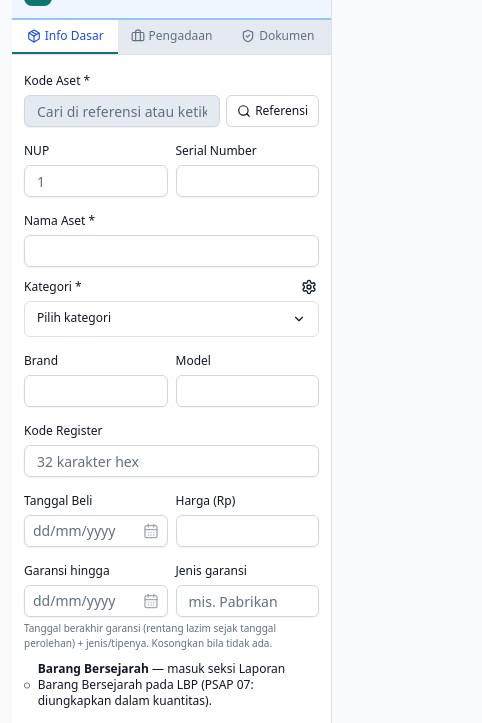
Test case: pemicu pencarian kode dan pegawai tetap membuka pilihan
The width and height of the screenshot is (482, 723).
Click the button with test id "asset-code-picker" at (273,111), box top-left (226, 95), bottom-right (319, 127)
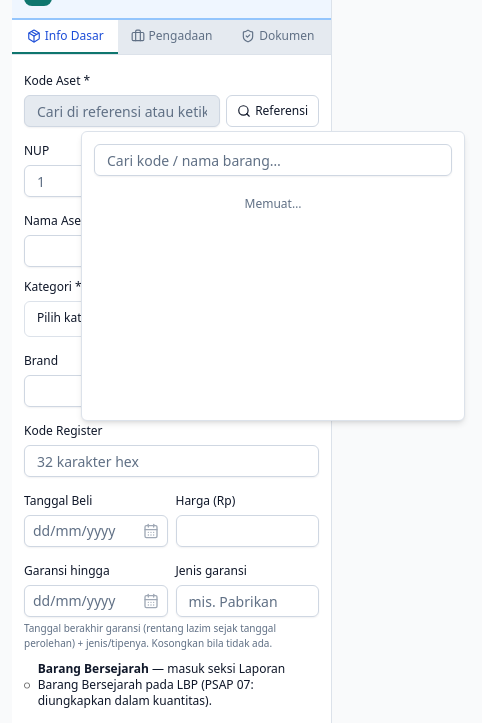
Result: the field with test id "asset-code-picker-search" is shown at top-left (94, 144), bottom-right (452, 176)
Press Escape
(page scrolled)
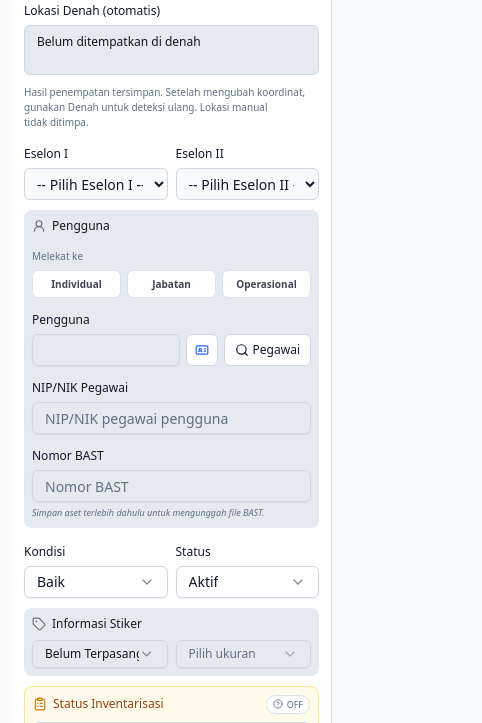
Click the button with test id "pengguna-pegawai-picker" at (267,350), box top-left (224, 334), bottom-right (311, 366)
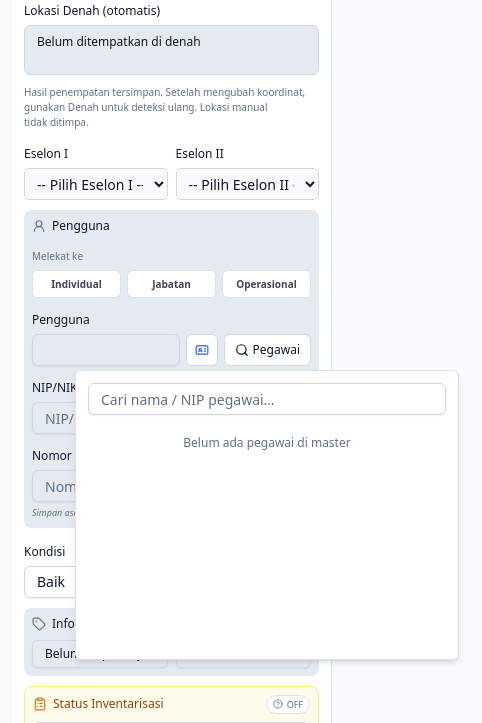
Result: the field with test id "pengguna-pegawai-search" is shown at top-left (88, 383), bottom-right (446, 415)
